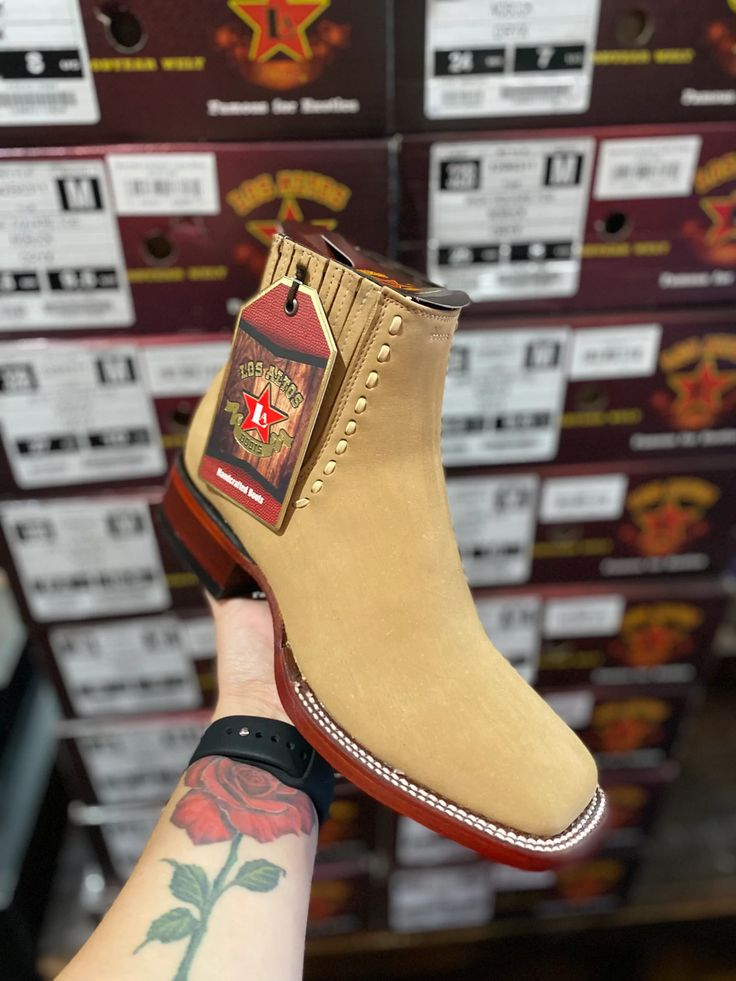gamuza: (184, 225, 597, 835)
